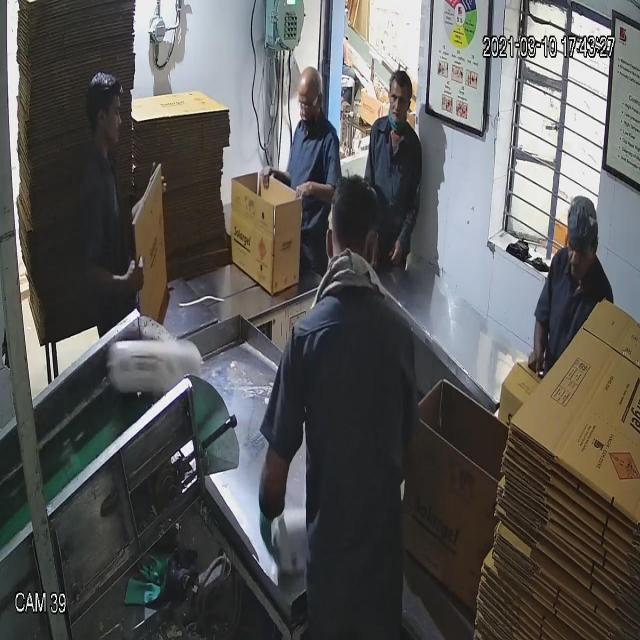No_Gloves: (57, 53, 320, 274)
